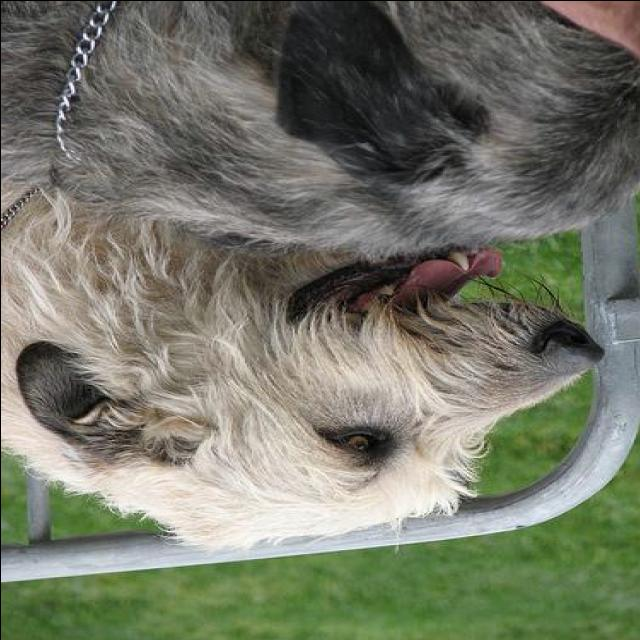irish_wolfhound: (3, 143, 611, 553), (4, 5, 638, 255)
